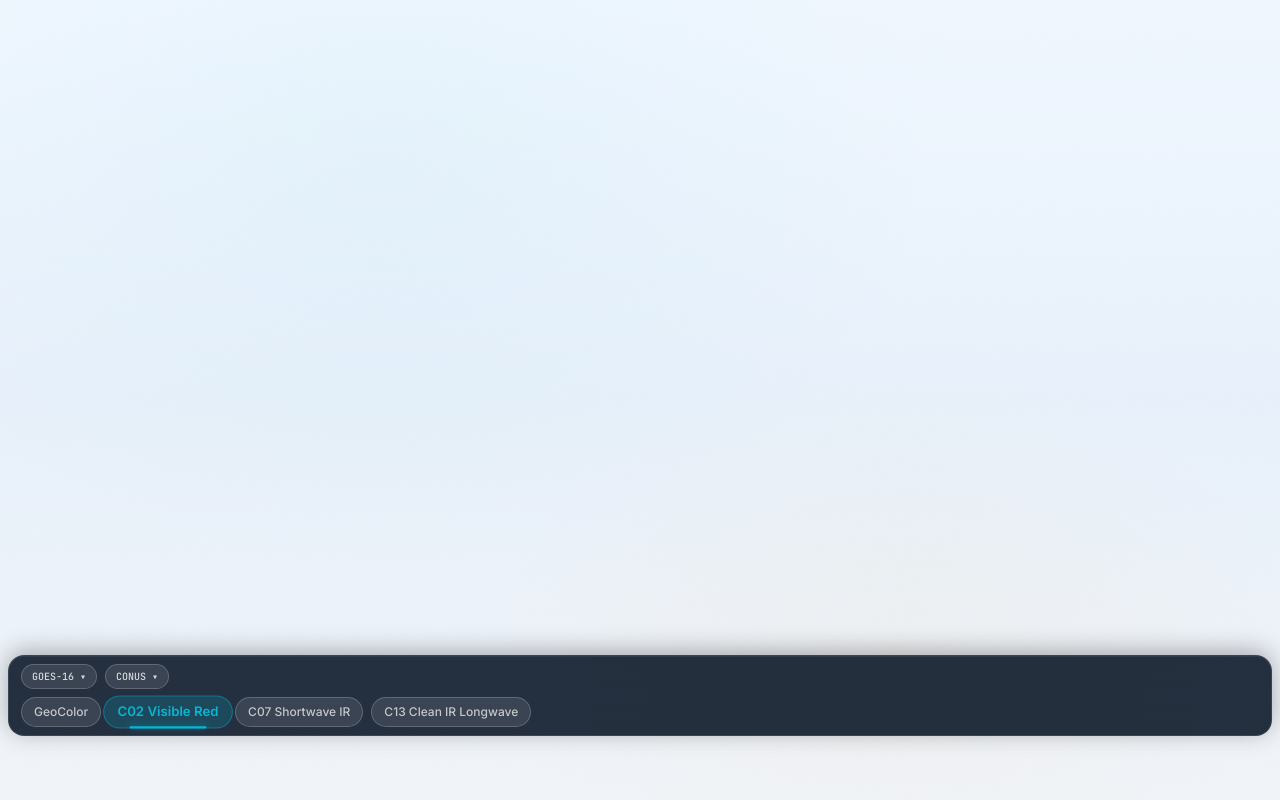
Test: BandPillStrip › expanding one group collapses when toggled
Note: Expand satellite
Click the button with test id "pill-strip-satellite".
click(59, 676)  # box [21,664,97,689]
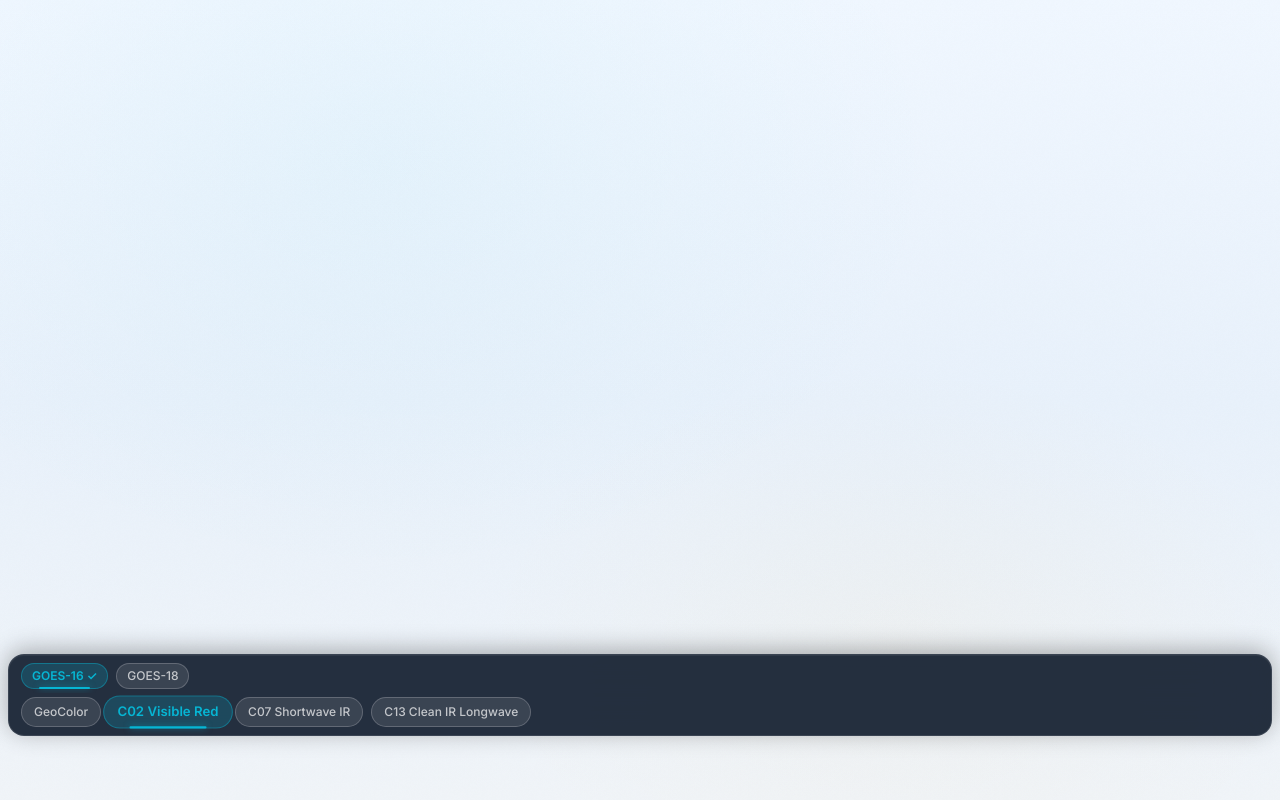
Result: the button "GOES-18" is shown at [116,663,190,689]
Note: Click active satellite to collapse back to default
Click the button with test id "satellite-option-GOES-16".
click(65, 676)  # box [21,663,108,689]
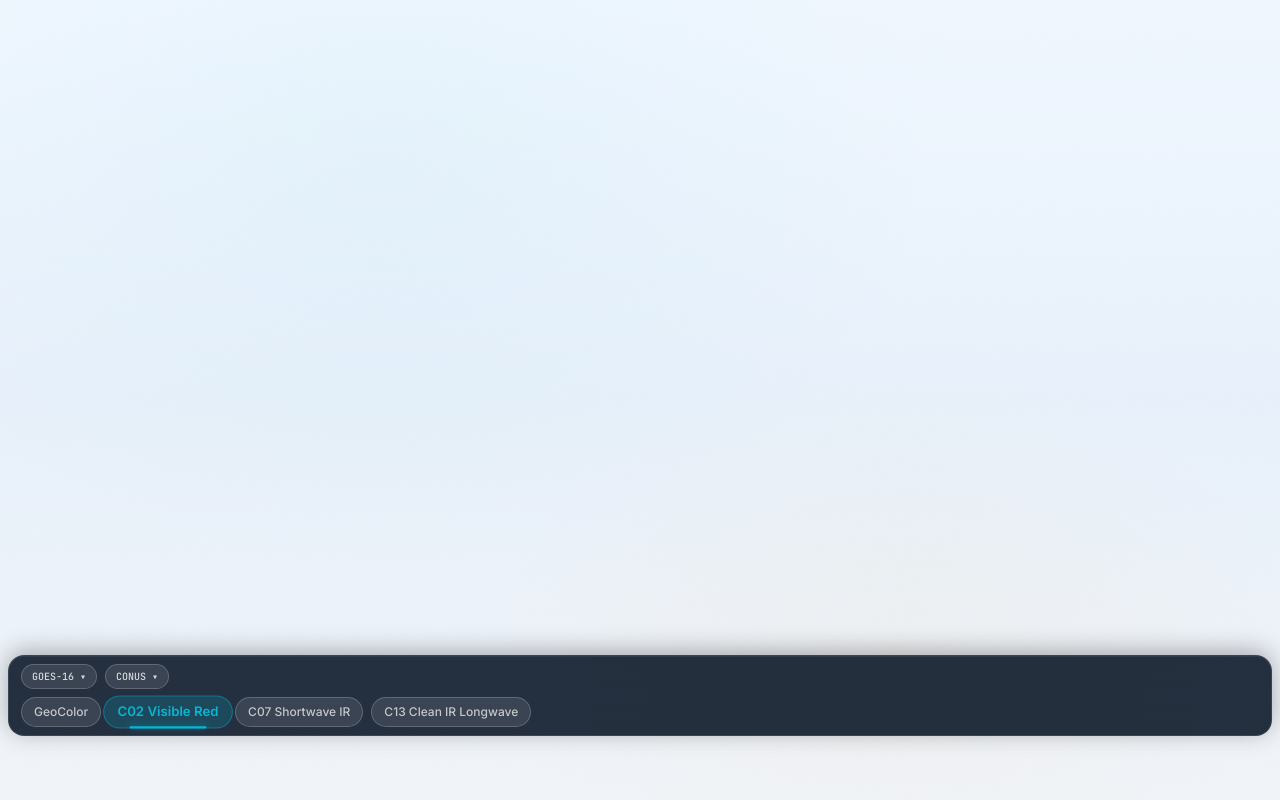
Result: the button with test id "pill-strip-satellite" is shown at [21,664,97,689]
Result: the button with test id "pill-strip-sector" is shown
Note: Now expand sector
Click the button with test id "pill-strip-sector".
click(137, 676)  # box [105,664,169,689]
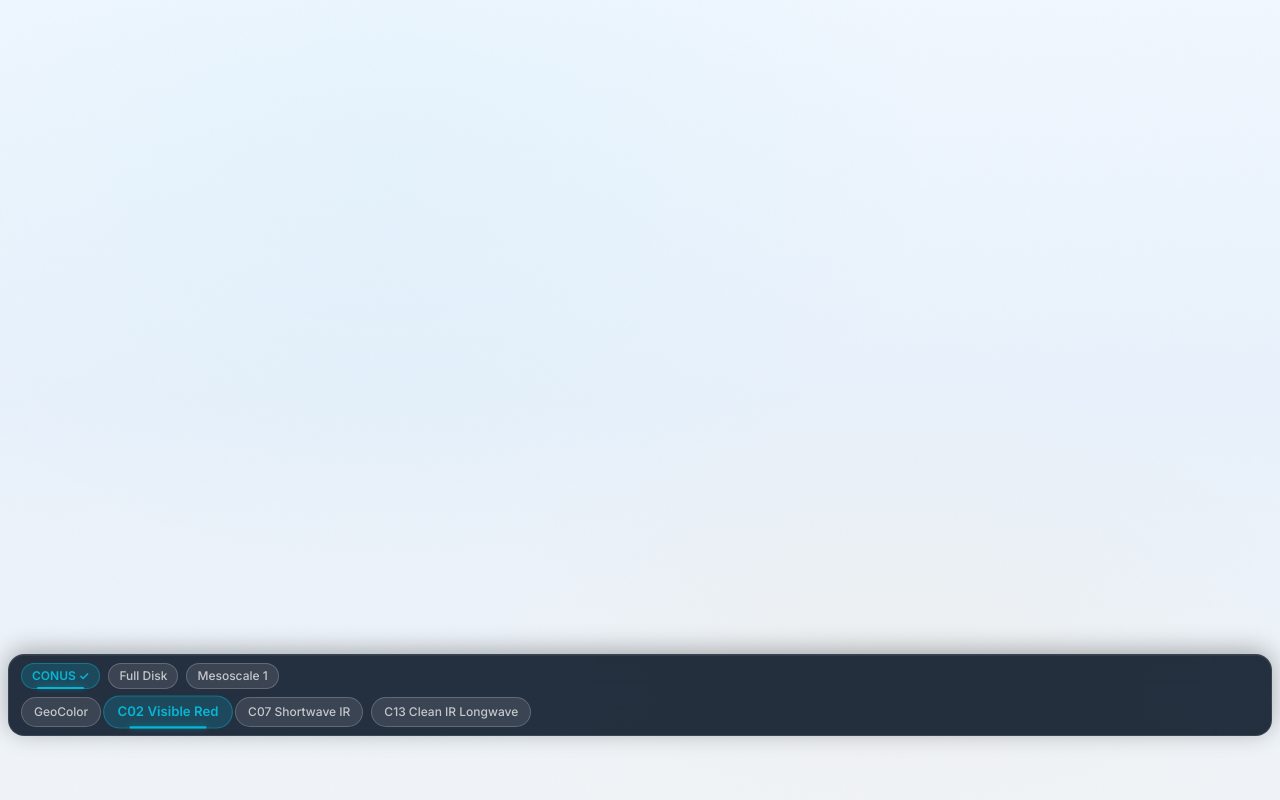
Result: the button "Full Disk" is shown at [108,663,178,689]
